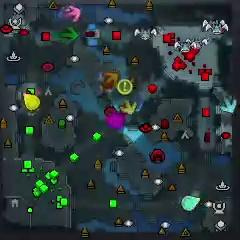Other: (117, 78, 133, 95)
p2: (182, 195, 200, 210)
p3: (105, 113, 125, 129)
p4: (23, 92, 39, 110)
x1: (64, 4, 81, 21)
x2: (120, 99, 137, 114)
x3: (221, 96, 237, 114)
x4: (60, 26, 78, 44)
x5: (103, 71, 118, 87)
